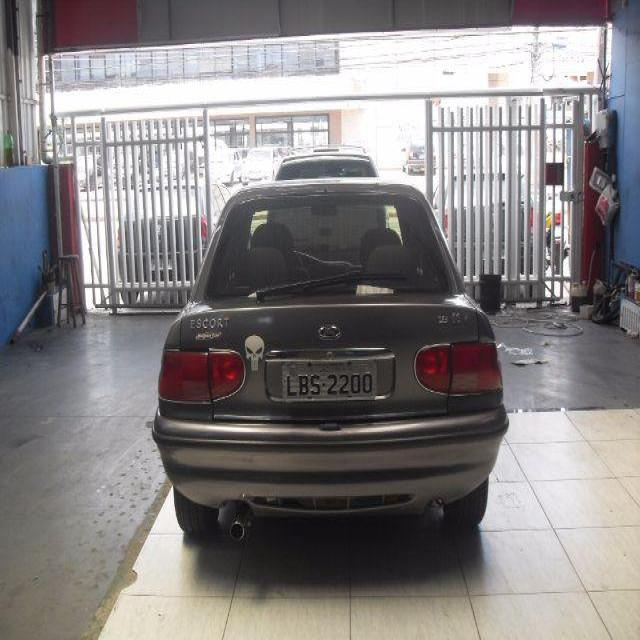Placa: (280, 356, 380, 405)
